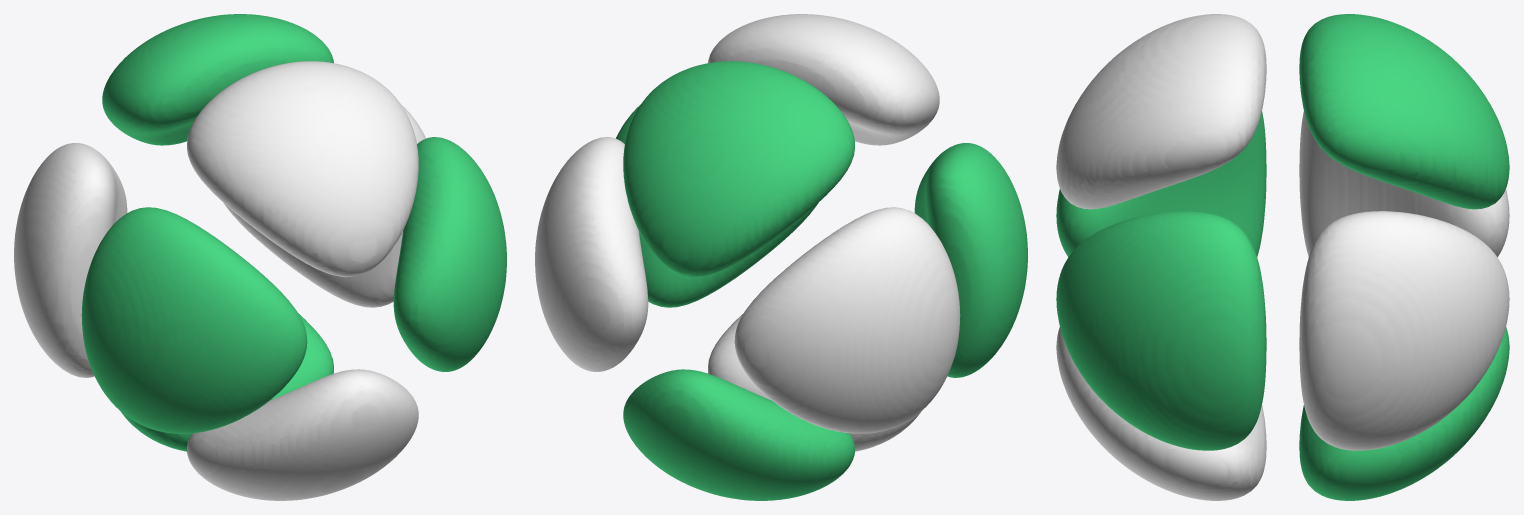
The picture shows the model from 3 angles, left to right: view 1: azimuth 30°, elevation 25°; view 2: azimuth 150°, elevation 25°; view 3: azimuth 270°, elevation 25°; orthographic projection. The views are drawn at different scales.
Visible parts, largest first — view 1: f_fz_x2-y2; view 2: f_fz_x2-y2; view 3: f_fz_x2-y2.
Part boxes in pixels (<box>): f_fz_x2-y2: <box>14,14,506,500</box>; f_fz_x2-y2: <box>535,14,1027,500</box>; f_fz_x2-y2: <box>1056,14,1509,500</box>.
Size of the model in its own units: 1.87 by 1.87 by 1.7.
